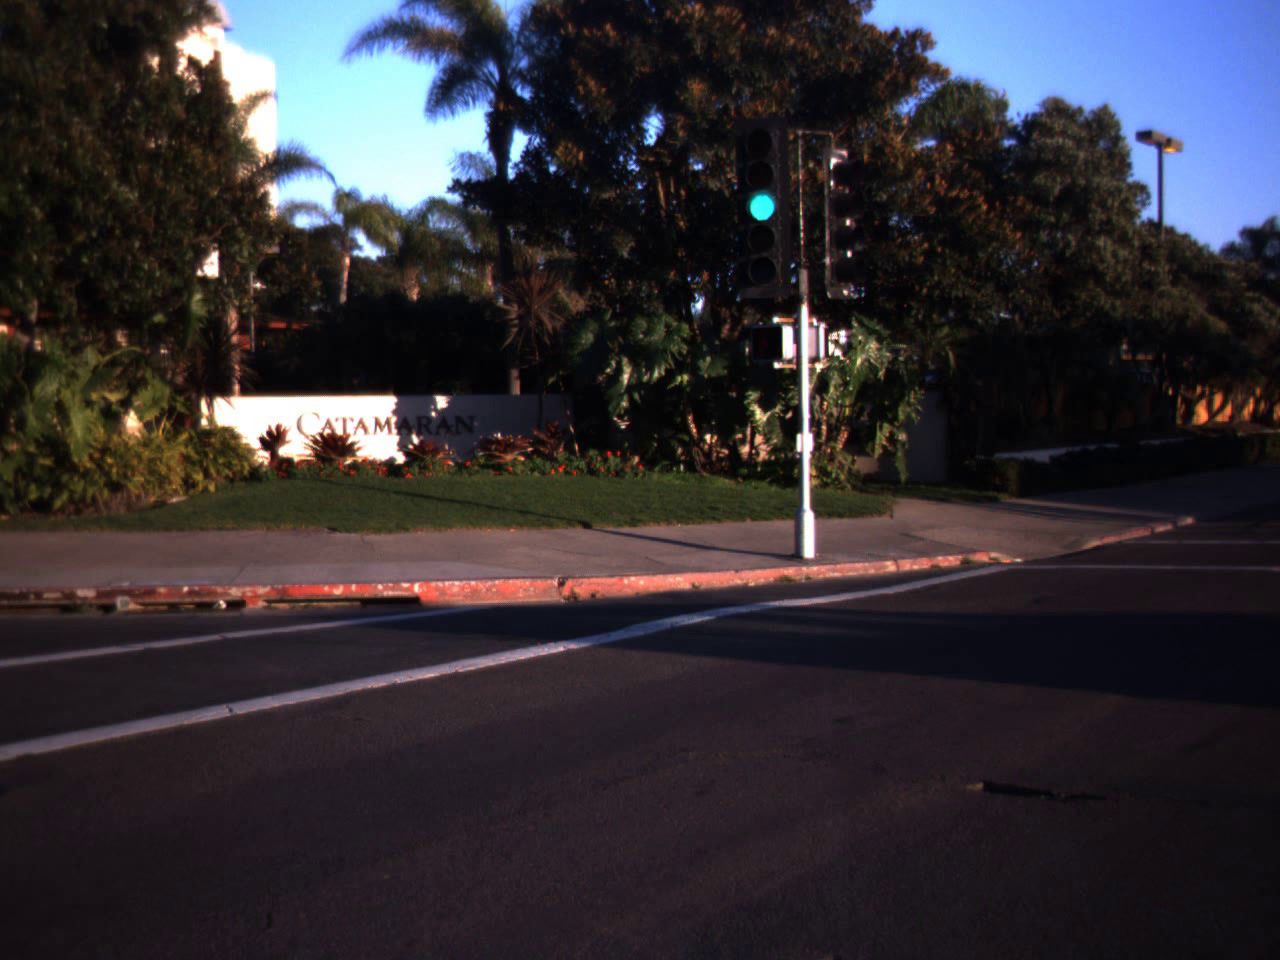go: (728, 112, 797, 232)
